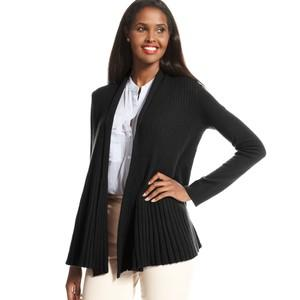S_cardigan sweater: (64, 78, 264, 265)
